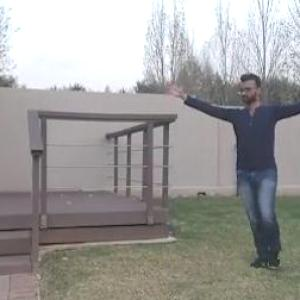takeoff: (157, 70, 299, 283)
